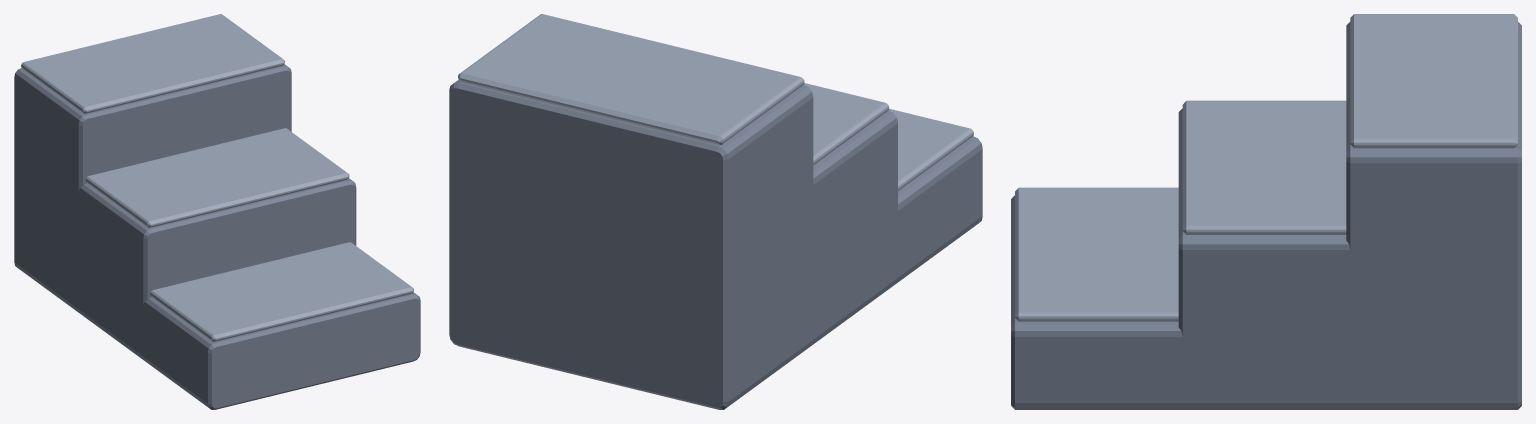
Rendered from pet-steps.glb.
The picture shows the model from 3 angles, left to right: view 1: azimuth 30°, elevation 25°; view 2: azimuth 150°, elevation 25°; view 3: azimuth 270°, elevation 25°; orthographic projection. The views are drawn at different scales.
Visible parts, largest first — view 1: body, soft; view 2: body, soft; view 3: body, soft.
Part boxes in pixels (left/top/right/bottom): body: left=14, top=64, right=420, bottom=409; soft: left=21, top=14, right=413, bottom=341; body: left=449, top=79, right=982, bottom=409; soft: left=458, top=14, right=973, bottom=190; body: left=1011, top=22, right=1521, bottom=409; soft: left=1015, top=14, right=1517, bottom=321.
Size of the model in its own units: 0.4 by 0.372 by 0.64.
